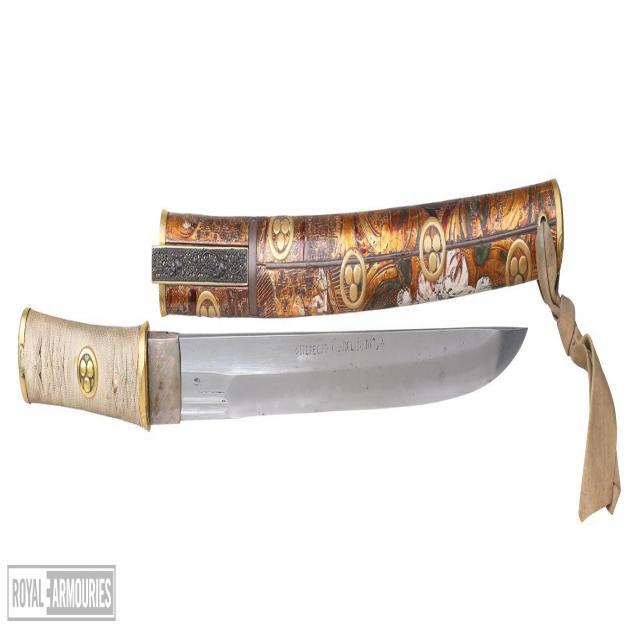short sword: (14, 147, 626, 543)
